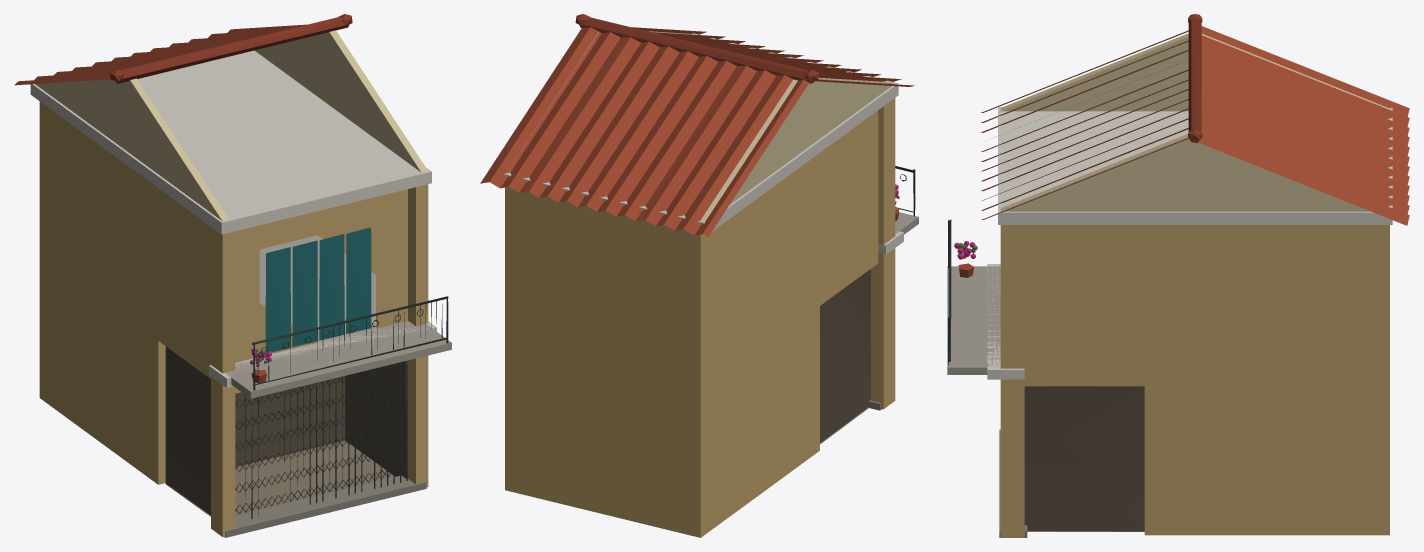
File: nha_C.glb
3 renders of one model, left to right at view 1: azimuth 30°, elevation 25°; view 2: azimuth 150°, elevation 25°; view 3: azimuth 270°, elevation 25°, orthographic. The views are drawn at different scales.
Parts seen in each view (by area): view 1: nha_C; view 2: nha_C; view 3: nha_C.
Boxes of the visible parts, x1,y1,x2,y2 form: nha_C: (14,14,451,537); nha_C: (480,14,918,537); nha_C: (947,14,1409,537).
Size of the model in its own units: 5.39 by 8.6 by 8.67.
